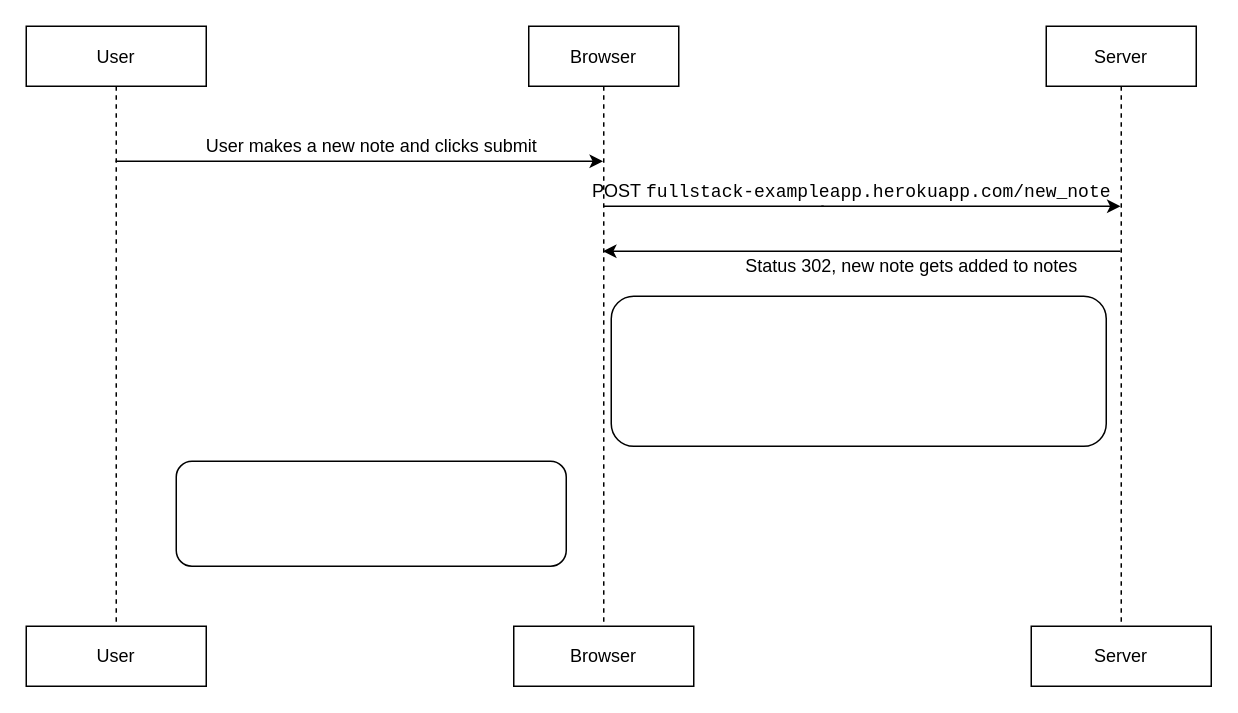
The diagram is 1238 pixels wide and 713 high, and some of its shapes have lost their labels. The box of each missing label's shape, as (x1, y1, x2, y2) in pixels:
Page is reloaded and displayed with added note: (175, 460, 566, 566)
Reloads page (HTML,CSS,JS and notes json) Check Exercise03 diagram: (610, 295, 1106, 446)
